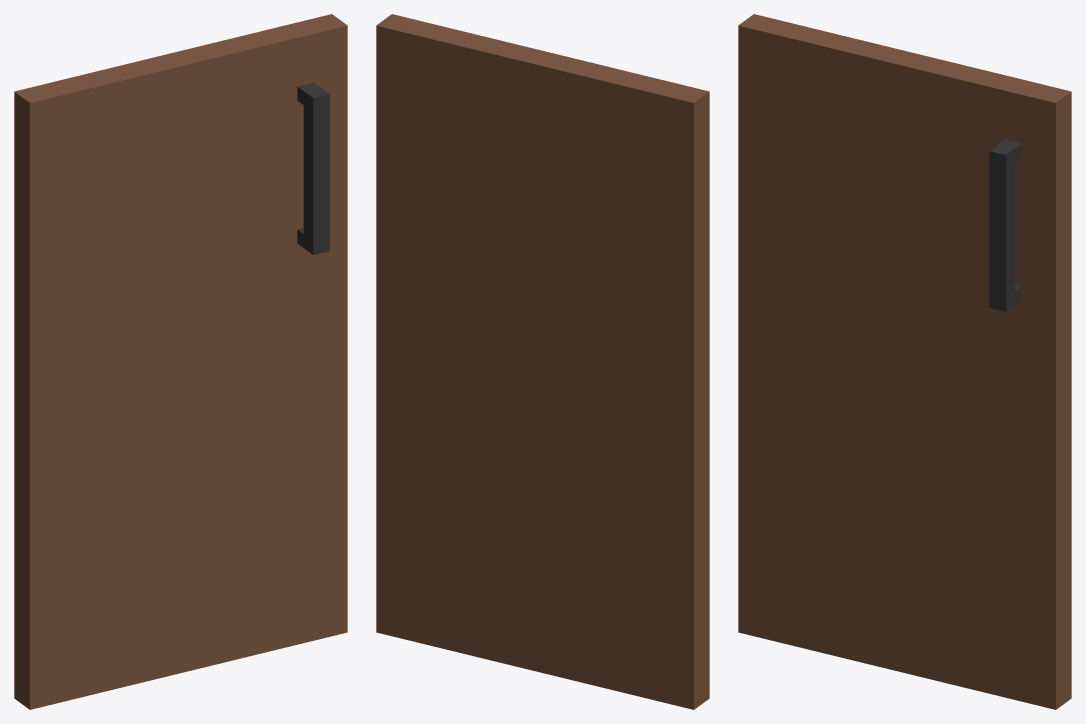
File: Door1_C2_10.fbx
3 views of the same model, side by side, from view 1: azimuth 30°, elevation 25°; view 2: azimuth 150°, elevation 25°; view 3: azimuth 330°, elevation 25° (orthographic).
Parts seen in each view (by area): view 1: Door1_C2_10; view 2: Door1_C2_10; view 3: Door1_C2_10.
Boxes of the visible parts, x1,y1,x2,y2 form: Door1_C2_10: (14,14,347,709); Door1_C2_10: (376,14,709,709); Door1_C2_10: (738,14,1071,709).
Size of the model in its own units: 29 by 52.92 by 5.03.
